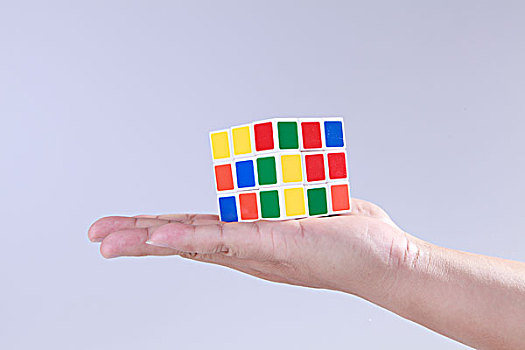cube: (210, 117, 354, 223)
